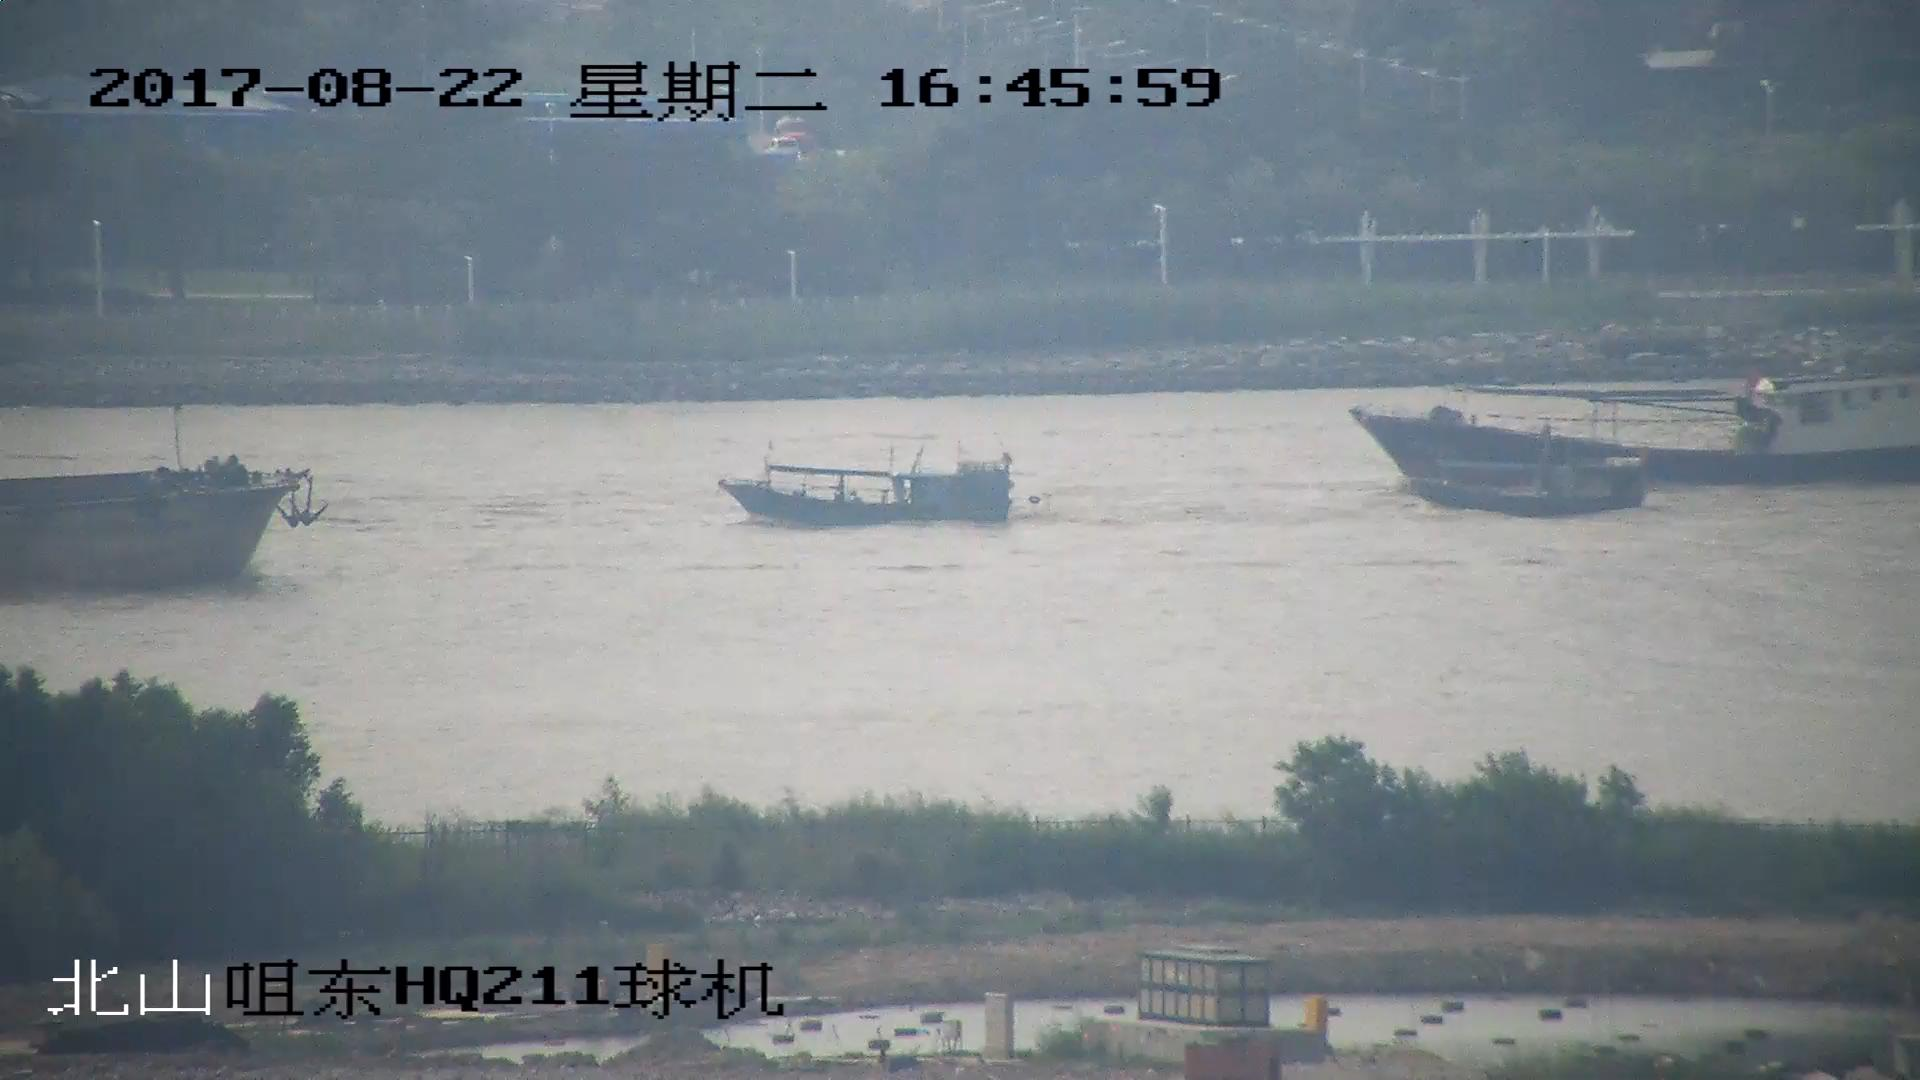bulk cargo carrier: (1, 452, 310, 584)
fishing boat: (1353, 369, 1920, 490), (718, 442, 1018, 525), (1410, 450, 1642, 520)
